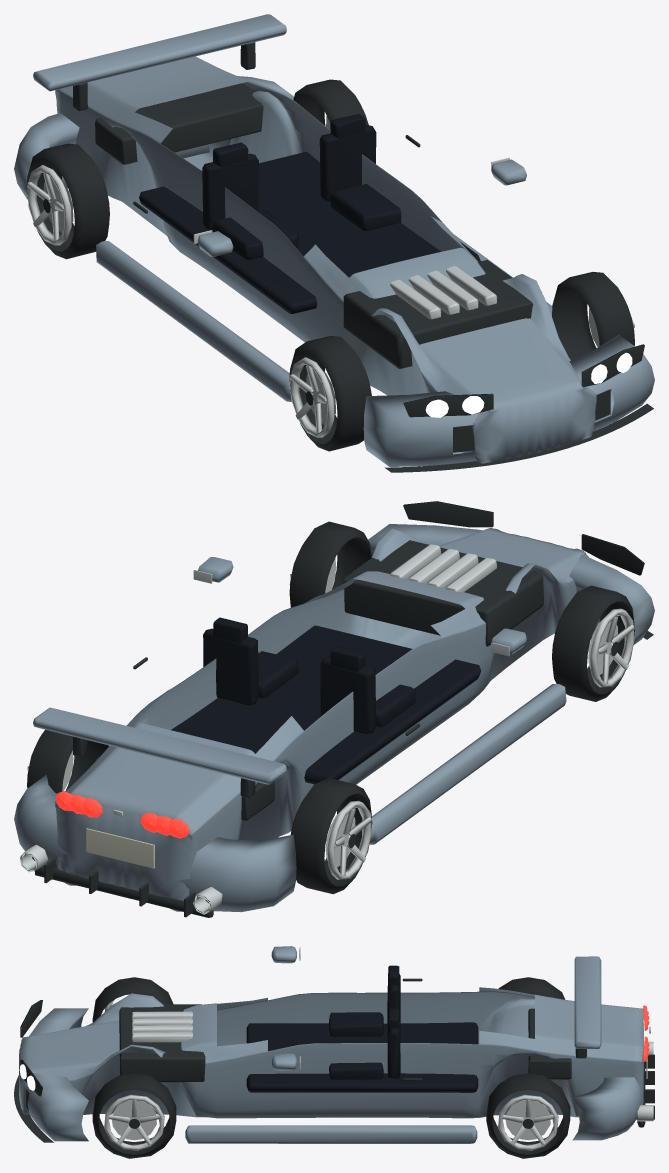
The model's file is drevalyn-velqir.glb.
3 renders of one model, top to bottom at view 1: azimuth 30°, elevation 25°; view 2: azimuth 150°, elevation 25°; view 3: azimuth 270°, elevation 25°, orthographic. The views are drawn at different scales.
Visible parts, largest first — view 1: scocca, interni, cofano, paraurti_ant, porta_sx, motore, audio_bagagliaio, spoiler, minigonna_sx, ruota_post_sx_gomma, ruota_ant_dx_gomma, ruota_ant_sx_gomma (+25 smaller); view 2: scocca, interni, paraurti_post, motore, portellone, porta_sx, spoiler, minigonna_sx, ruota_ant_sx_gomma, ruota_post_sx_gomma, porta_dx, ruota_ant_dx_gomma (+22 smaller); view 3: scocca, porta_dx, interni, porta_sx, minigonna_dx, cofano, paraurti_ant, portellone, motore, paraurti_post, ruota_post_dx_gomma, ruota_ant_dx_gomma (+22 smaller).
Boxes of the visible parts, box(x1,y1,x2,y2) form: scocca: box(55, 81, 596, 463); interni: box(139, 152, 480, 313); cofano: box(349, 247, 574, 394); paraurti_ant: box(363, 334, 654, 466); porta_sx: box(160, 144, 316, 342); motore: box(343, 260, 533, 368); audio_bagagliaio: box(95, 83, 263, 164); spoiler: box(33, 14, 286, 91); minigonna_sx: box(96, 241, 291, 401); ruota_post_sx_gomma: box(27, 143, 109, 259); ruota_ant_dx_gomma: box(552, 272, 634, 360); ruota_ant_sx_gomma: box(289, 336, 371, 451); scocca: box(55, 528, 588, 911); interni: box(171, 625, 480, 784); paraurti_post: box(14, 774, 296, 912); motore: box(343, 540, 543, 646); portellone: box(69, 723, 254, 819); porta_sx: box(302, 634, 453, 800); spoiler: box(33, 707, 286, 784); minigonna_sx: box(369, 684, 566, 844); ruota_ant_sx_gomma: box(552, 585, 634, 701); ruota_post_sx_gomma: box(290, 777, 372, 894); porta_dx: box(160, 600, 313, 729); ruota_ant_dx_gomma: box(289, 521, 371, 607); scocca: box(19, 987, 643, 1118); porta_dx: box(252, 1043, 479, 1118); interni: box(246, 1022, 478, 1092); porta_sx: box(252, 991, 479, 1044); minigonna_dx: box(185, 1125, 477, 1143); cofano: box(42, 1003, 216, 1072); paraurti_ant: box(25, 1008, 88, 1141); portellone: box(535, 994, 643, 1049); motore: box(119, 1004, 205, 1082); paraurti_post: box(572, 1077, 642, 1140); ruota_post_dx_gomma: box(486, 1073, 570, 1158); ruota_ant_dx_gomma: box(92, 1073, 176, 1158).
Size of the model in its own units: 2.22 by 1.01 by 5.16.
